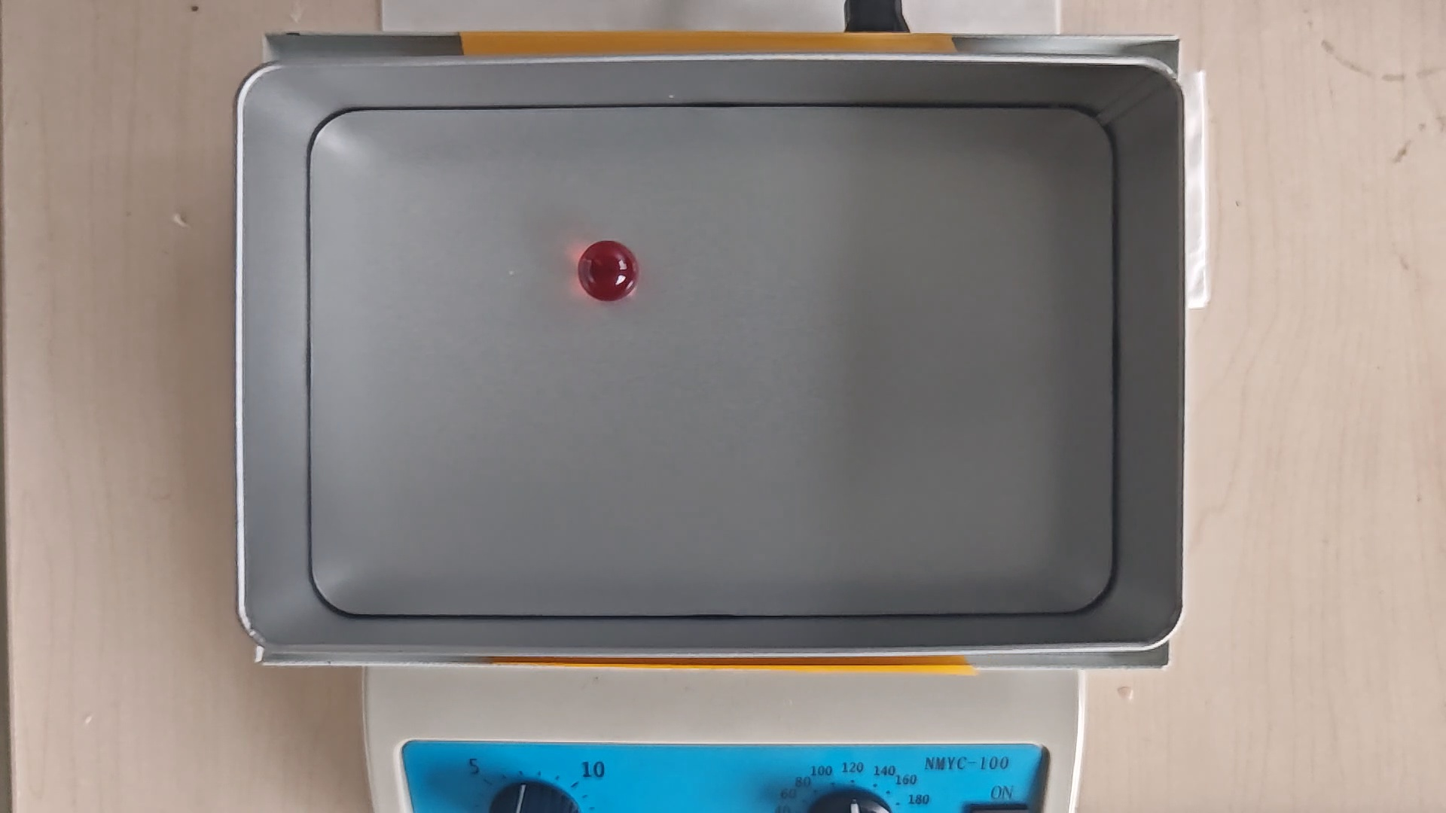ball: (578, 240, 639, 303)
container: (308, 108, 1115, 617)
